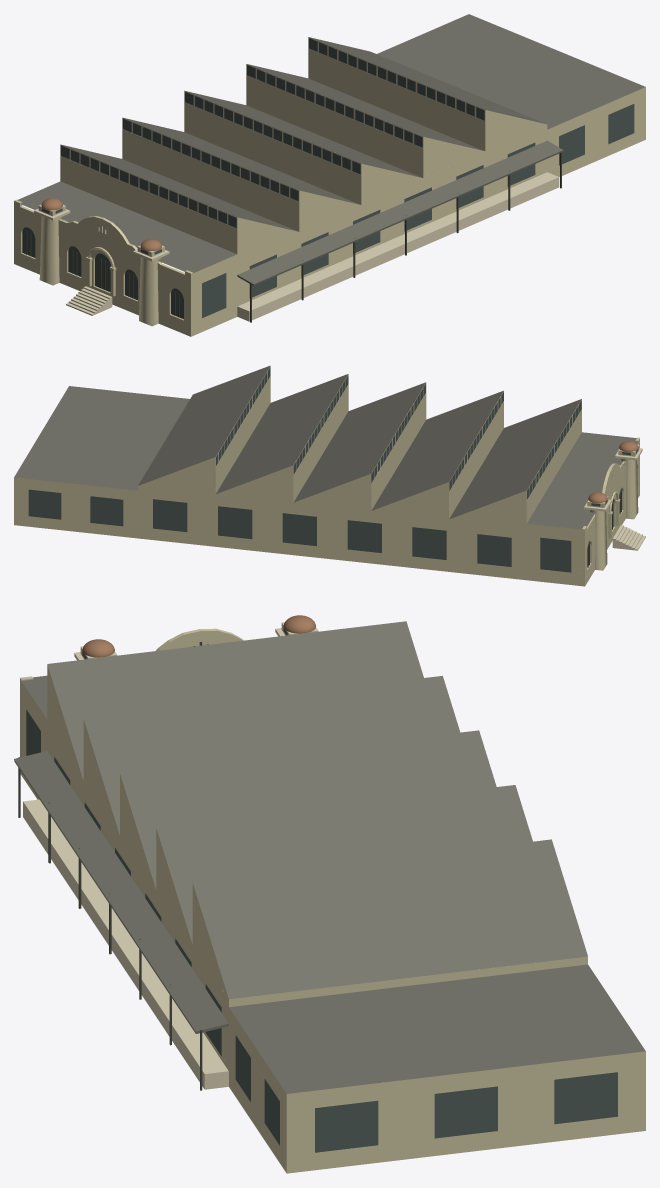
The model's file is anaheim-packing-house-near.glb.
The picture shows the model from 3 angles, top to bottom: view 1: azimuth 30°, elevation 25°; view 2: azimuth 150°, elevation 25°; view 3: azimuth 270°, elevation 25°; orthographic projection. The views are drawn at different scales.
Parts seen in each view (by area): view 1: anaheim-packing-house-0-stone, anaheim-packing-house-0-roof, anaheim-packing-house-0-glass, anaheim-packing-house-0-trim, anaheim-packing-house-0-dark; view 2: anaheim-packing-house-0-roof, anaheim-packing-house-0-stone, anaheim-packing-house-0-glass, anaheim-packing-house-0-trim, anaheim-packing-house-0-cap; view 3: anaheim-packing-house-0-roof, anaheim-packing-house-0-stone, anaheim-packing-house-0-glass, anaheim-packing-house-0-trim, anaheim-packing-house-0-dark, anaheim-packing-house-0-cap.
Part boxes in pixels (left/top/right/bottom): anaheim-packing-house-0-stone: left=14, top=49, right=645, bottom=336; anaheim-packing-house-0-roof: left=17, top=14, right=645, bottom=285; anaheim-packing-house-0-glass: left=22, top=38, right=634, bottom=319; anaheim-packing-house-0-trim: left=34, top=37, right=559, bottom=321; anaheim-packing-house-0-dark: left=26, top=148, right=561, bottom=322; anaheim-packing-house-0-roof: left=14, top=366, right=637, bottom=529; anaheim-packing-house-0-stone: left=14, top=377, right=639, bottom=586; anaheim-packing-house-0-glass: left=28, top=367, right=638, bottom=572; anaheim-packing-house-0-trim: left=215, top=366, right=645, bottom=550; anaheim-packing-house-0-cap: left=588, top=441, right=638, bottom=503; anaheim-packing-house-0-roof: left=14, top=621, right=645, bottom=1093; anaheim-packing-house-0-stone: left=20, top=623, right=645, bottom=1173; anaheim-packing-house-0-glass: left=26, top=628, right=617, bottom=1152; anaheim-packing-house-0-trim: left=23, top=622, right=318, bottom=1089; anaheim-packing-house-0-dark: left=18, top=642, right=208, bottom=1090; anaheim-packing-house-0-cap: left=82, top=615, right=315, bottom=657.
Size of the model in its own units: 83.96 by 13.2 by 50.35.
